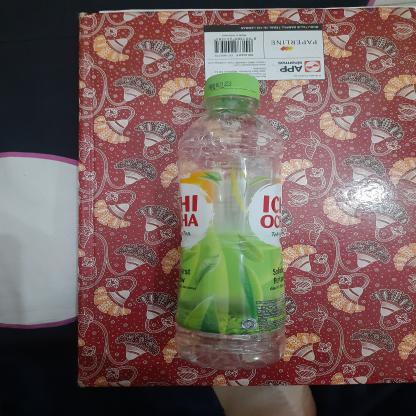plastic: (164, 70, 291, 374)
